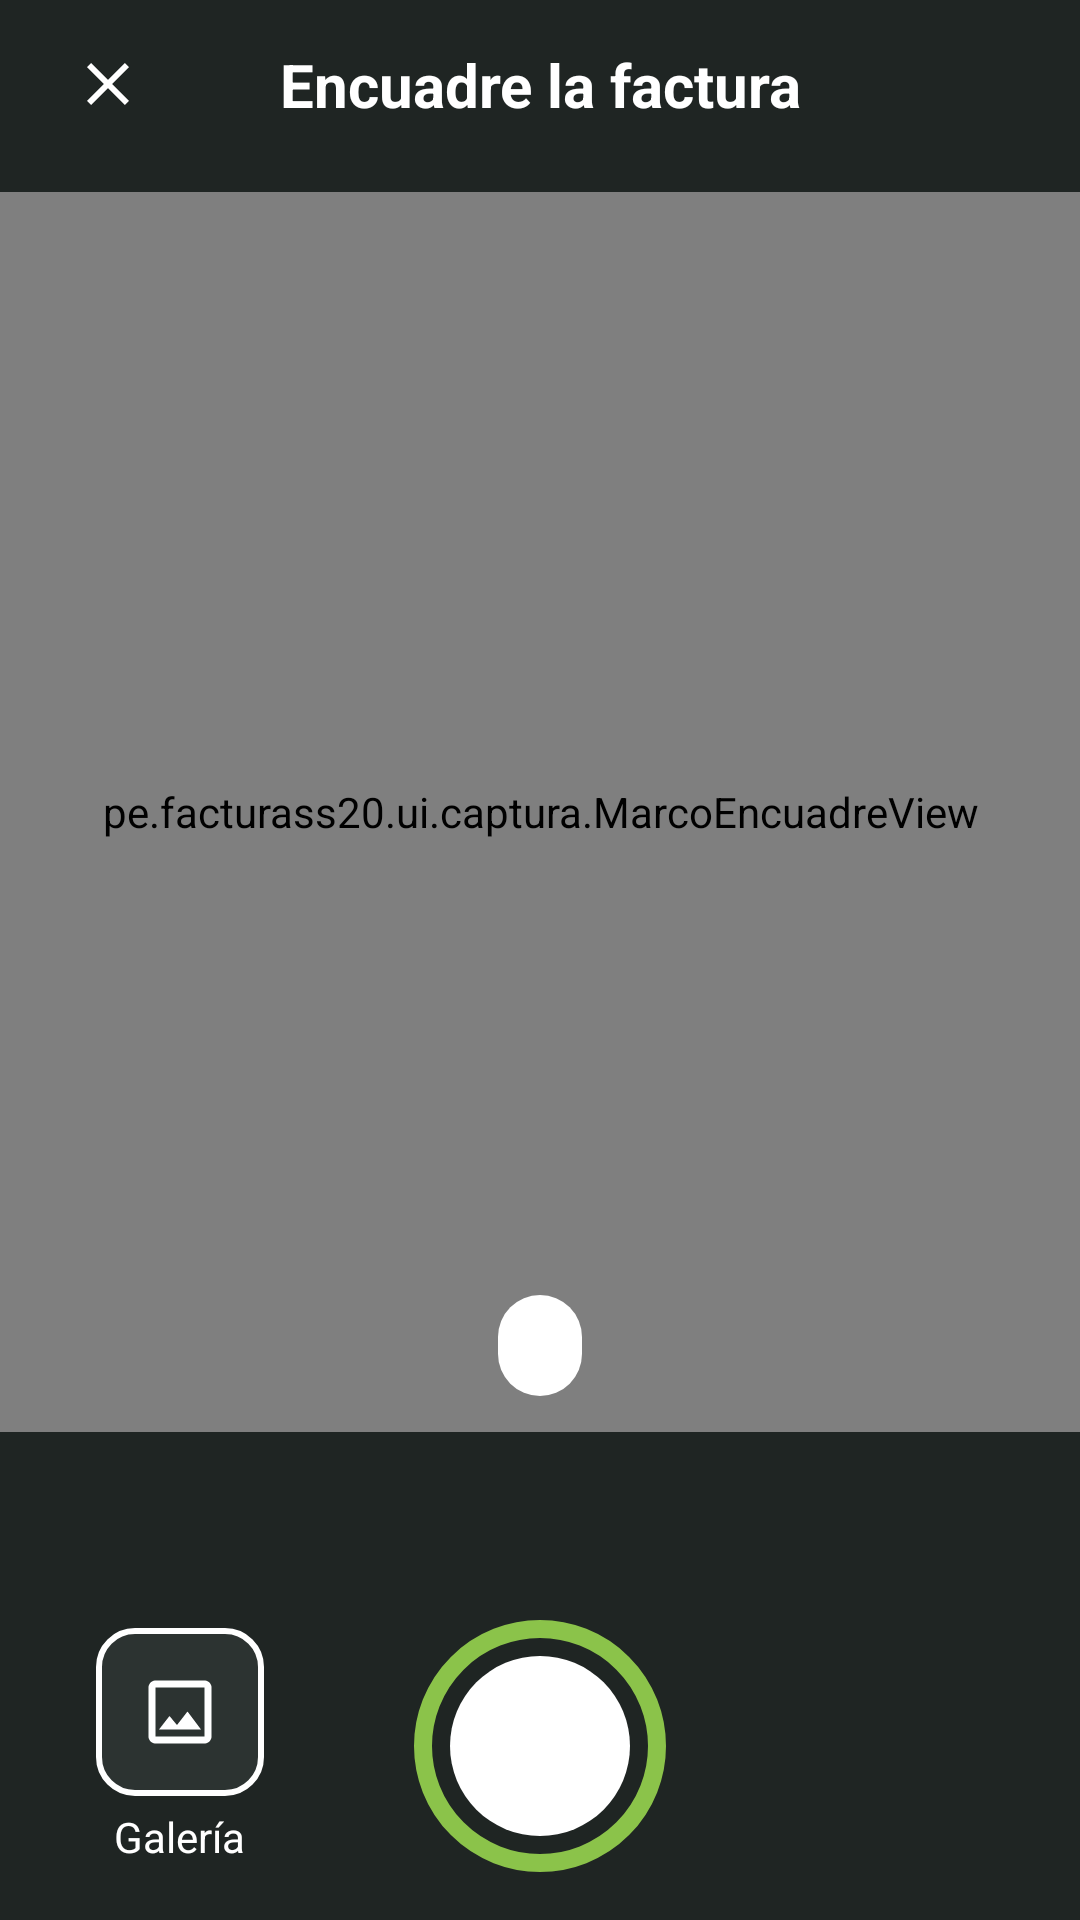

Icons on this 1080w x 1920h Android screen, each with the point to tap as (x=x, y=y):
Cerrar la cámara: (x=108, y=84)
